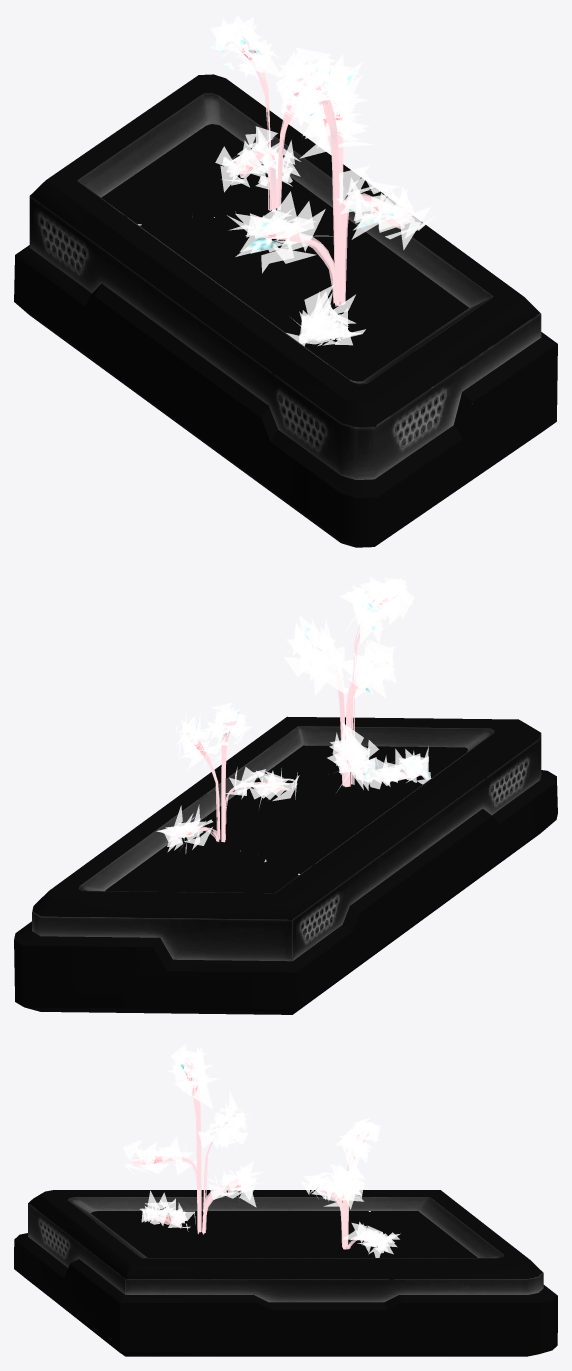
The model's file is propPottedPlant.glb.
The picture shows the model from 3 angles, top to bottom: view 1: azimuth 30°, elevation 25°; view 2: azimuth 150°, elevation 25°; view 3: azimuth 270°, elevation 25°; orthographic projection. The views are drawn at different scales.
Parts seen in each view (by area): view 1: propPottedPlant, Point.007_M_Tree_Leaves.003_0, Point.004_M_Tree_Leaves.003_0, Point.008_M_Tree.003_0, Point.006_M_Tree.003_0; view 2: propPottedPlant, Point.007_M_Tree_Leaves.003_0, Point.004_M_Tree_Leaves.003_0, Point.006_M_Tree.003_0, Point.008_M_Tree.003_0; view 3: propPottedPlant, Point.007_M_Tree_Leaves.003_0, Point.004_M_Tree_Leaves.003_0, Point.008_M_Tree.003_0, Point.006_M_Tree.003_0.
Boxes of the visible parts, x1,y1,x2,y2 form: propPottedPlant: [14, 74, 557, 547]; Point.007_M_Tree_Leaves.003_0: [227, 47, 436, 346]; Point.004_M_Tree_Leaves.003_0: [210, 15, 334, 217]; Point.008_M_Tree.003_0: [249, 72, 414, 340]; Point.006_M_Tree.003_0: [227, 35, 306, 211]; propPottedPlant: [14, 716, 557, 1014]; Point.007_M_Tree_Leaves.003_0: [284, 576, 431, 792]; Point.004_M_Tree_Leaves.003_0: [156, 702, 299, 862]; Point.006_M_Tree.003_0: [172, 720, 290, 842]; Point.008_M_Tree.003_0: [316, 593, 421, 787]; propPottedPlant: [14, 1190, 557, 1356]; Point.007_M_Tree_Leaves.003_0: [122, 1044, 264, 1231]; Point.004_M_Tree_Leaves.003_0: [301, 1117, 400, 1257]; Point.008_M_Tree.003_0: [131, 1058, 245, 1234]; Point.006_M_Tree.003_0: [311, 1131, 389, 1249].
Size of the model in its own units: 1.29 by 1.83 by 3.27.
3 materials, 3 textured.
